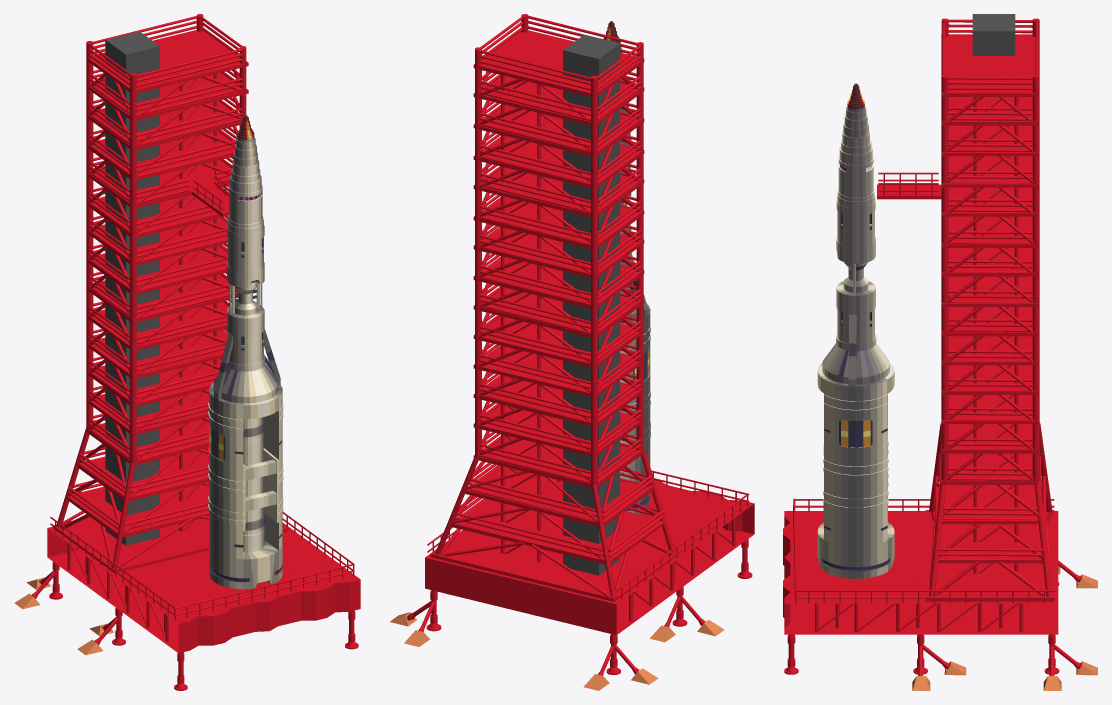
Rendered from ConeBlend.fbx.
The picture shows the model from 3 angles, left to right: view 1: azimuth 30°, elevation 25°; view 2: azimuth 150°, elevation 25°; view 3: azimuth 270°, elevation 25°; orthographic projection. The views are drawn at different scales.
Parts seen in each view (by area): view 1: Cylinder, Cubo, Cubo.026, Cubo.009, Cubo.025, Cubo.012, Cilindro.153, Cubo.021, Cilindro.152, Cubo.011, Cubo.015, Cubo.016 (+12 smaller); view 2: Cubo, Cubo.026, Cubo.009, Cubo.012, Cubo.025, Cubo.011, Cilindro.152, Cylinder, Cilindro.151, Cubo.015, Cilindro.153, Cubo.013 (+14 smaller); view 3: Cylinder, Cubo, Cubo.009, Cubo.025, Cubo.012, Cilindro.151, Cubo.011, Cilindro.154, Cubo.021, Cubo.022, Cubo.020, Cubo.016 (+14 smaller).
Part boxes in pixels (bbox=[...]): Cylinder: bbox=[208, 115, 283, 589]; Cubo: bbox=[47, 522, 360, 653]; Cubo.026: bbox=[105, 31, 159, 545]; Cubo.009: bbox=[53, 516, 288, 572]; Cubo.025: bbox=[88, 30, 248, 93]; Cubo.012: bbox=[67, 482, 208, 537]; Cilindro.153: bbox=[130, 72, 136, 463]; Cubo.021: bbox=[88, 160, 231, 216]; Cilindro.152: bbox=[86, 41, 93, 432]; Cubo.011: bbox=[77, 447, 208, 501]; Cubo.015: bbox=[88, 329, 227, 379]; Cubo.016: bbox=[88, 301, 229, 351]; Cubo: bbox=[425, 480, 754, 635]; Cubo.026: bbox=[563, 34, 620, 575]; Cubo.009: bbox=[431, 530, 678, 601]; Cubo.012: bbox=[451, 498, 663, 564]; Cubo.025: bbox=[473, 30, 644, 97]; Cubo.011: bbox=[465, 465, 652, 526]; Cilindro.152: bbox=[591, 75, 597, 487]; Cylinder: bbox=[603, 21, 650, 514]; Cilindro.151: bbox=[475, 47, 481, 459]; Cubo.015: bbox=[473, 345, 644, 397]; Cilindro.153: bbox=[636, 42, 643, 453]; Cubo.013: bbox=[473, 405, 644, 457]; Cylinder: bbox=[817, 83, 894, 578]; Cubo: bbox=[783, 511, 1058, 634]; Cubo.009: bbox=[925, 510, 1054, 601]; Cubo.025: bbox=[941, 34, 1038, 96]; Cubo.012: bbox=[934, 483, 1046, 563]; Cilindro.151: bbox=[1032, 74, 1039, 481]; Cubo.011: bbox=[939, 456, 1041, 524]; Cilindro.154: bbox=[941, 74, 948, 480]; Cubo.021: bbox=[877, 184, 1038, 216]; Cubo.022: bbox=[941, 156, 1038, 187]; Cubo.020: bbox=[941, 216, 1038, 247]; Cubo.016: bbox=[941, 336, 1038, 365].
Size of the model in its own units: 5083 by 11068 by 5383.
